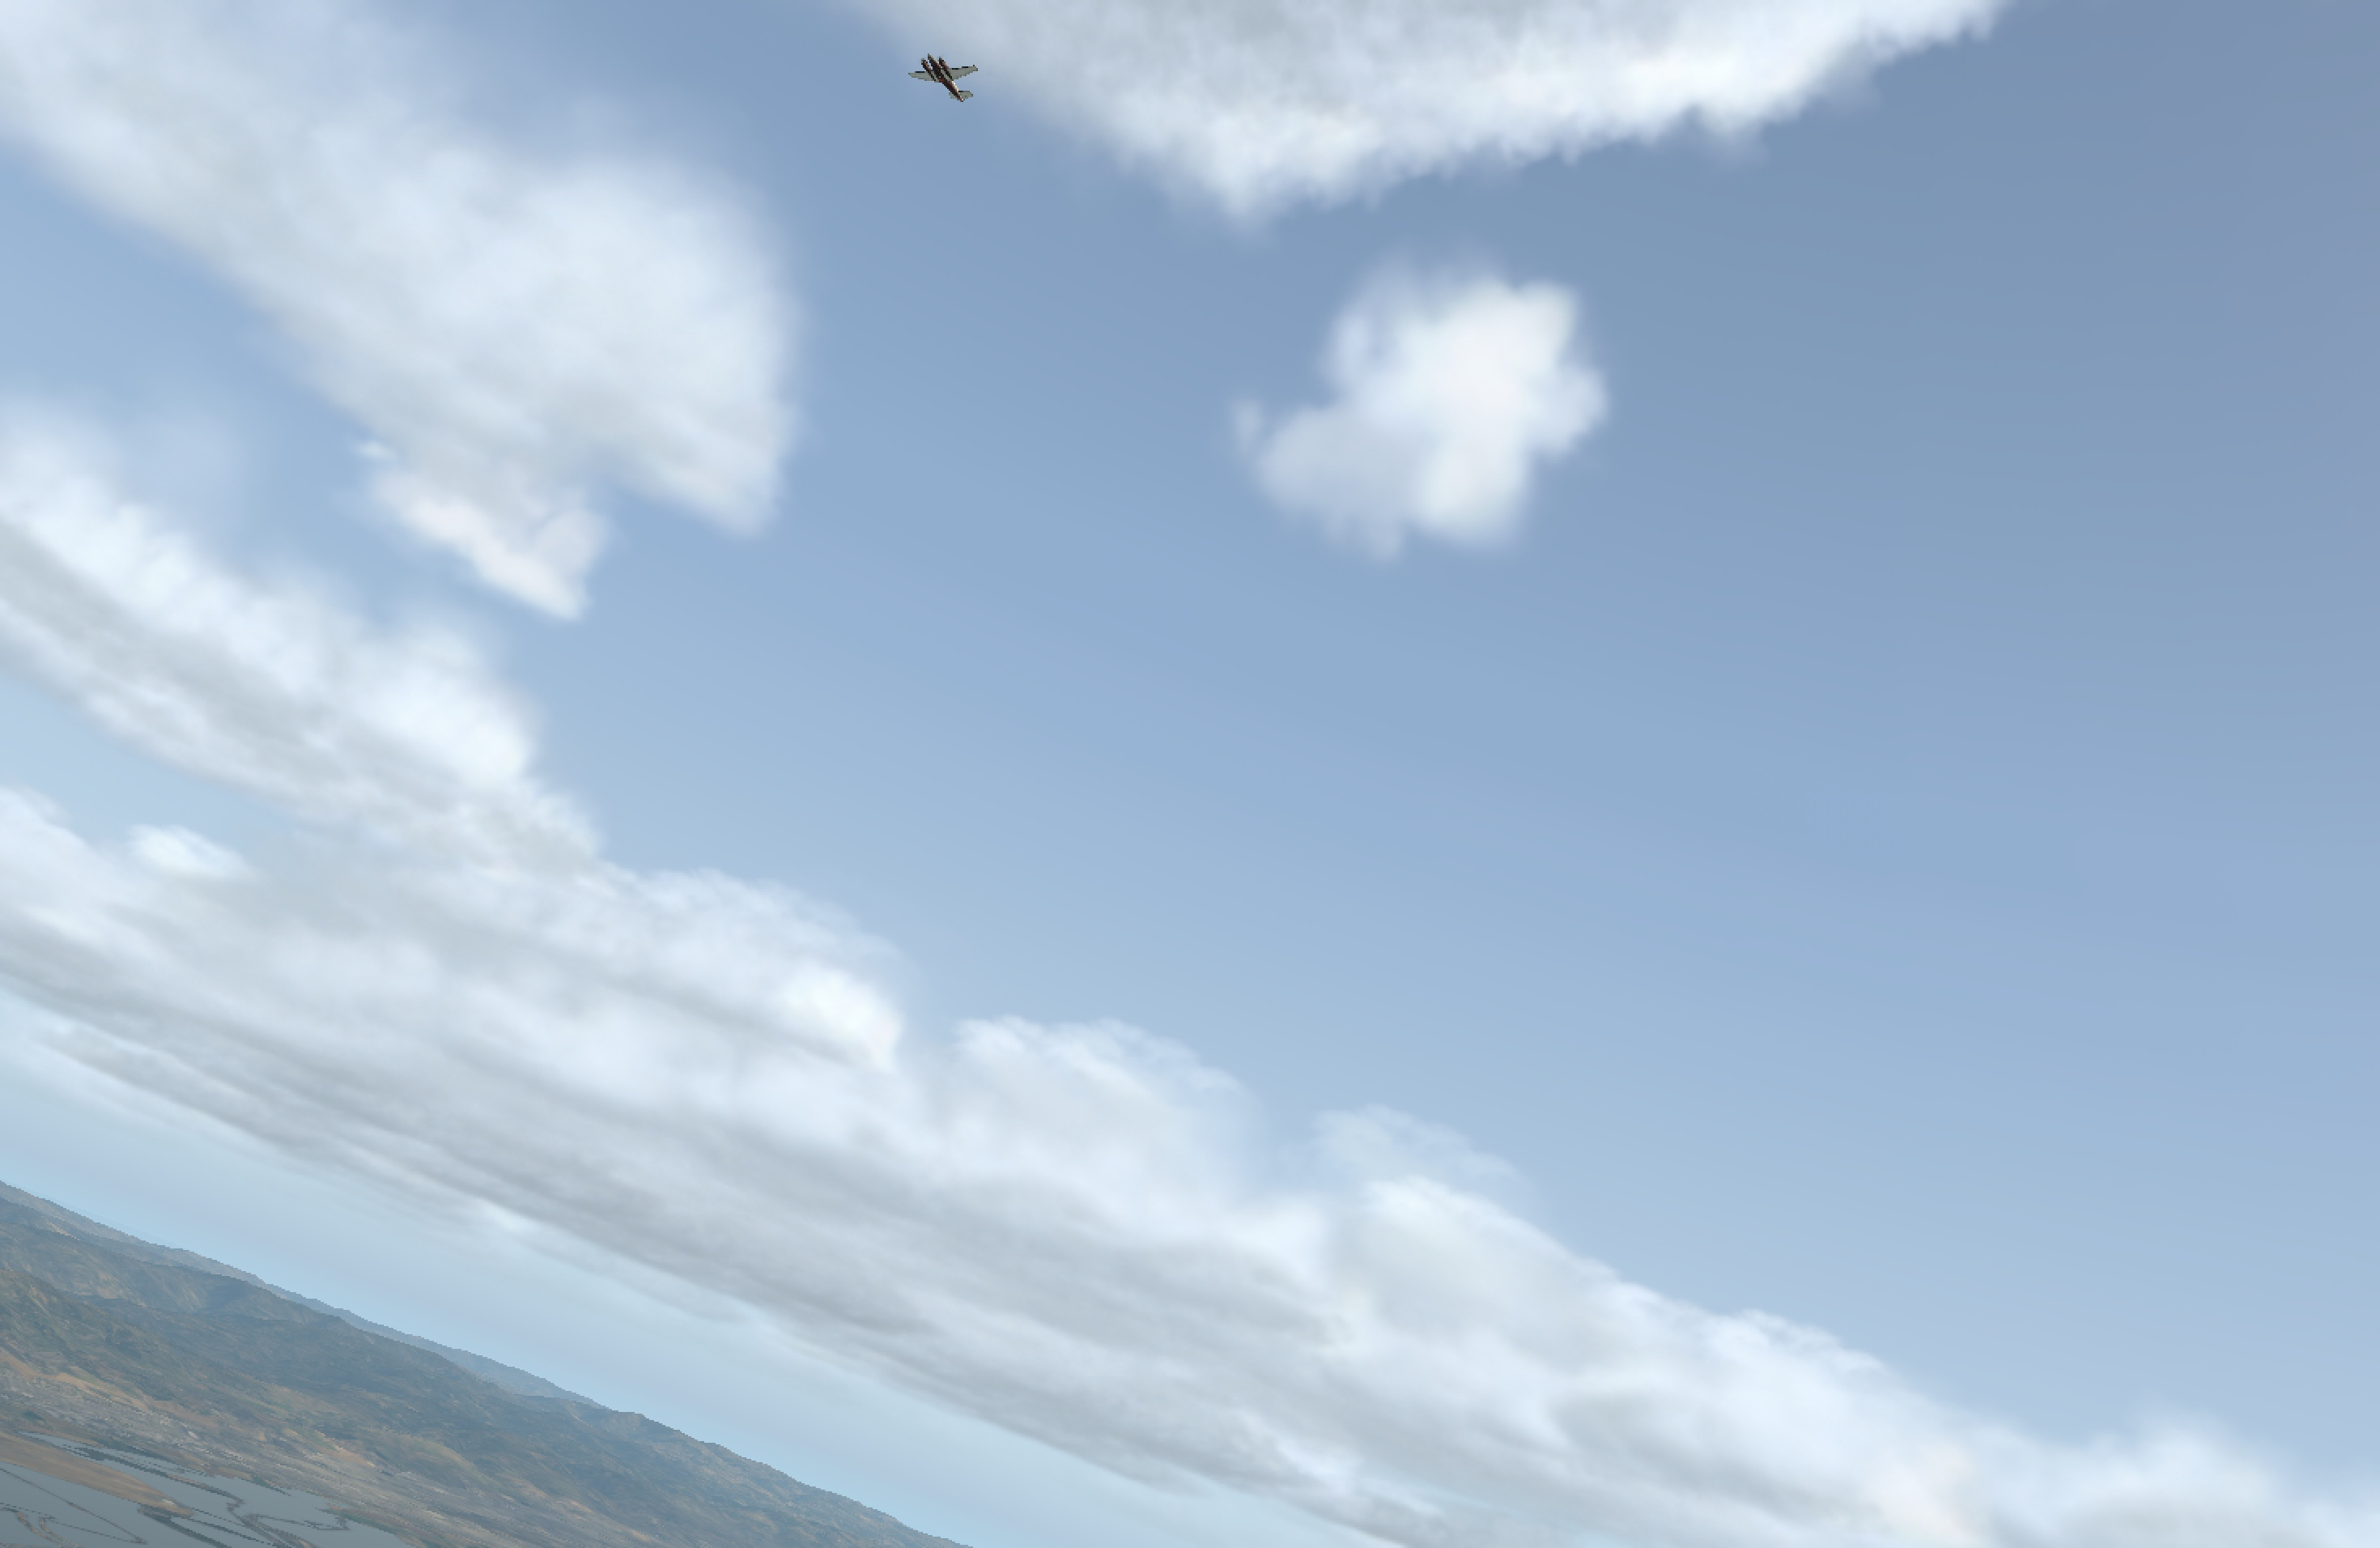aircraft: (893, 56, 984, 90)
